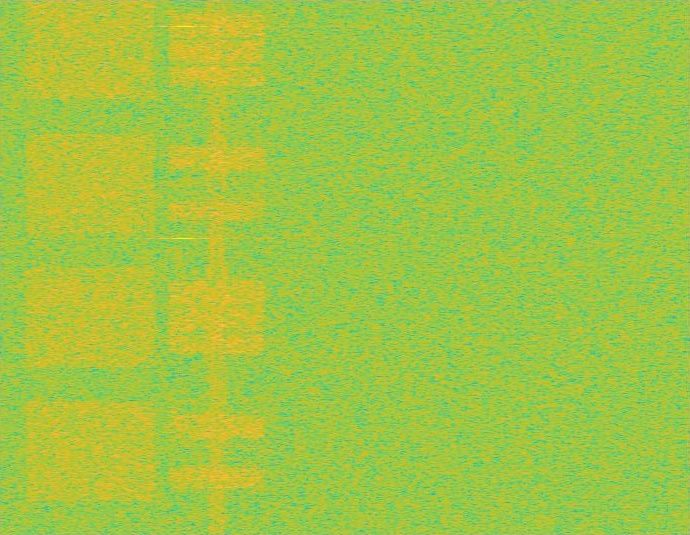5G: (22, 0, 160, 534)
DSSS: (205, 0, 229, 534)
LTE: (165, 0, 269, 534)
Radar: (177, 0, 191, 534)
